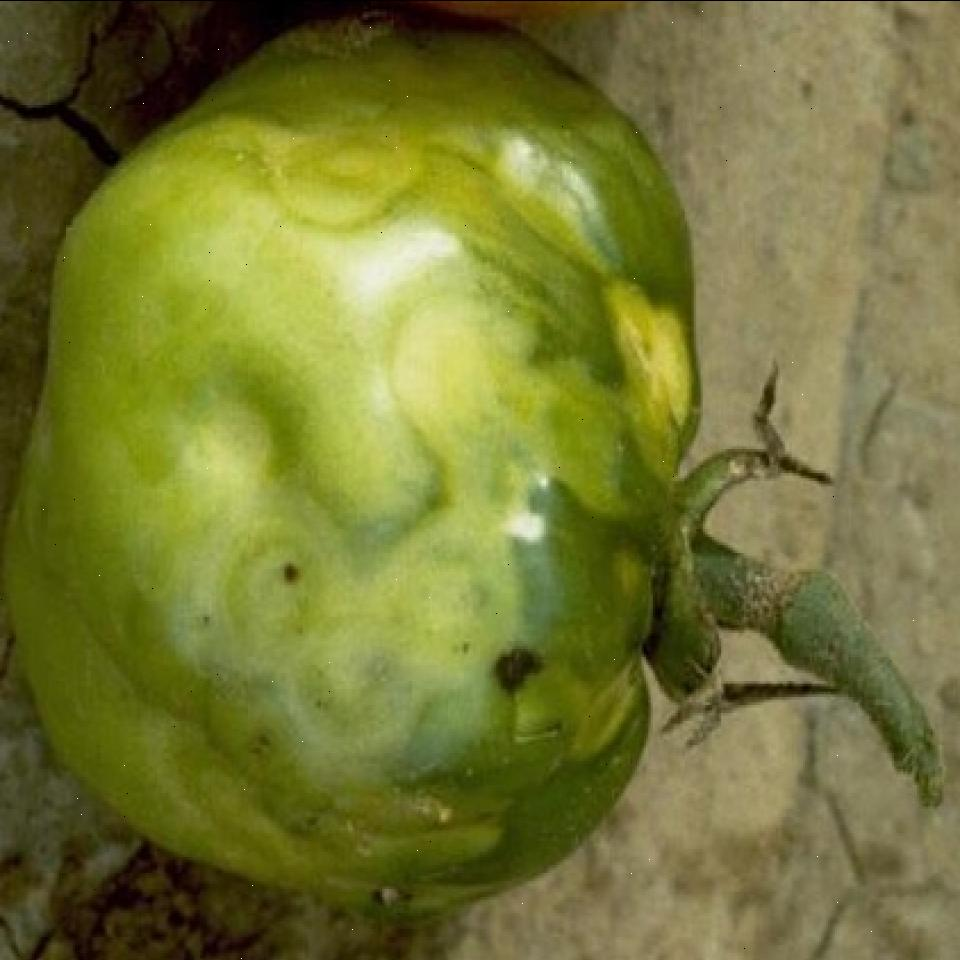Spotted wilt Virus: (0, 13, 708, 901)
